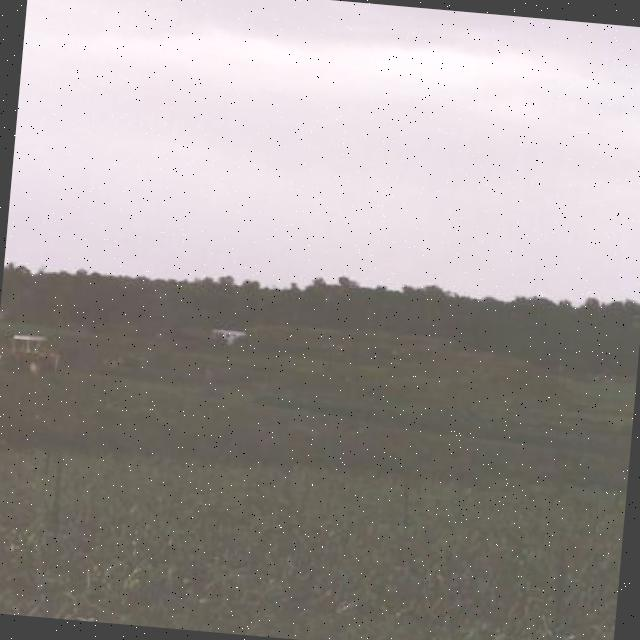Sc: (7, 1, 640, 291)
